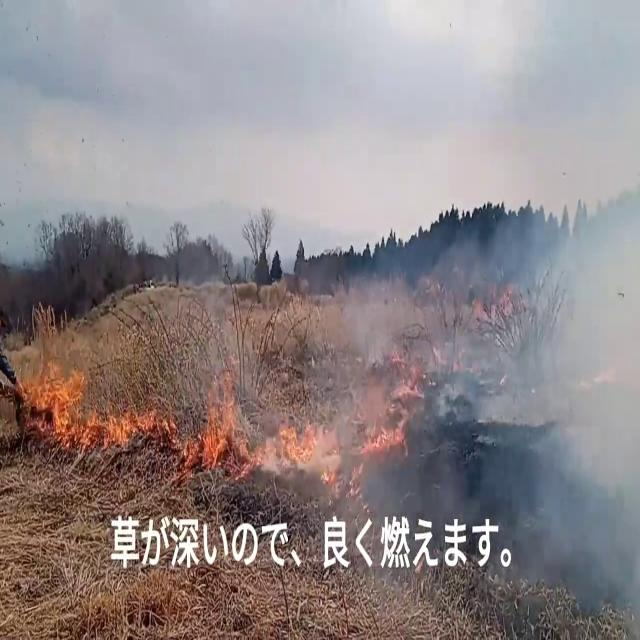Fire: (5, 354, 170, 446), (208, 381, 339, 483)
Smoke: (507, 91, 640, 639), (332, 255, 425, 404)
